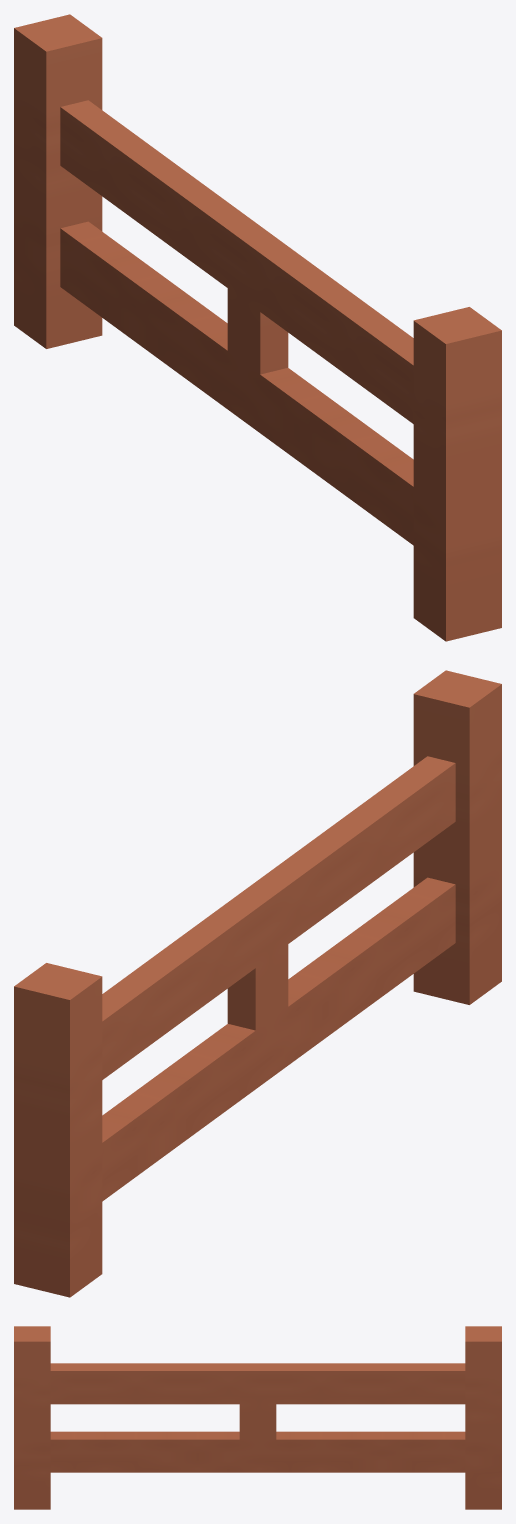
File: fence.fbx
3 renders of one model, top to bottom at view 1: azimuth 30°, elevation 25°; view 2: azimuth 150°, elevation 25°; view 3: azimuth 270°, elevation 25°, orthographic. The views are drawn at different scales.
Parts seen in each view (by area): view 1: fence; view 2: fence; view 3: fence.
Boxes of the visible parts, <box> form: fence: <box>14,14,501,641</box>; fence: <box>14,670,501,1297</box>; fence: <box>14,1326,501,1509</box>.
Bounding box in the file's own units: 0.075 × 1 × 0.38.
